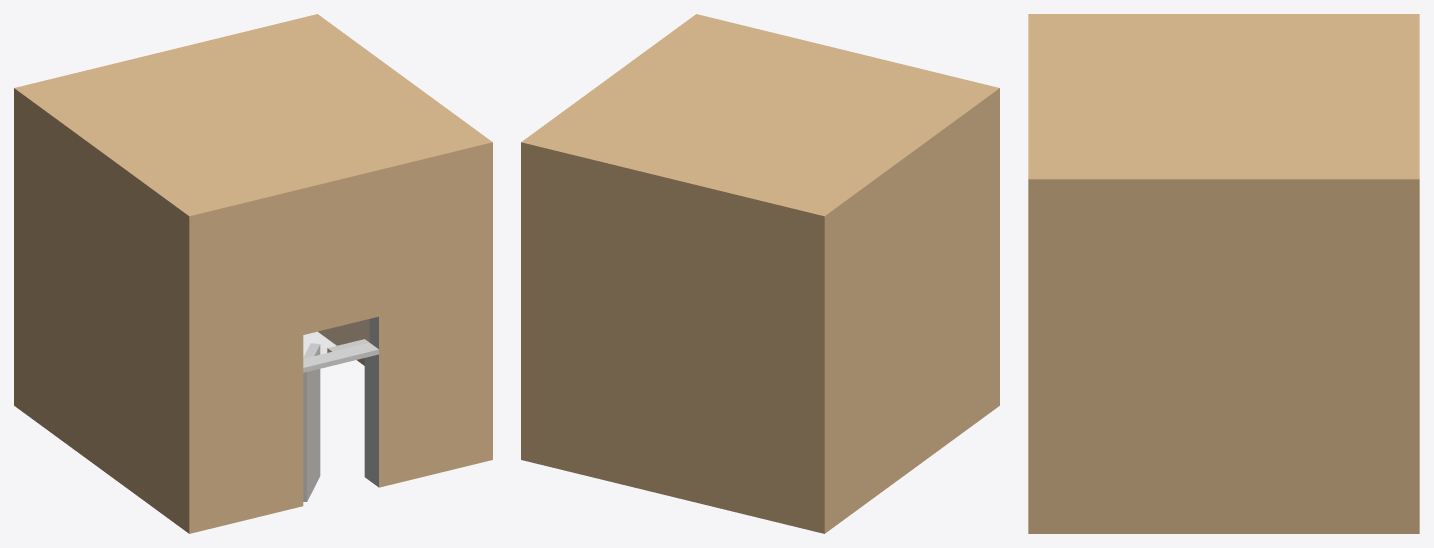
The model's file is room.glb.
3 views of the same model, side by side, from view 1: azimuth 30°, elevation 25°; view 2: azimuth 150°, elevation 25°; view 3: azimuth 270°, elevation 25° (orthographic). The views are drawn at different scales.
Visible parts, largest first — view 1: Cube; view 2: Cube; view 3: Cube.
Part boxes in pixels (x1,y1,x2,y2): Cube: [14, 14, 492, 533]; Cube: [521, 14, 999, 533]; Cube: [1028, 14, 1419, 533].
Bounding box in the file's own units: 1 × 1 × 1.
